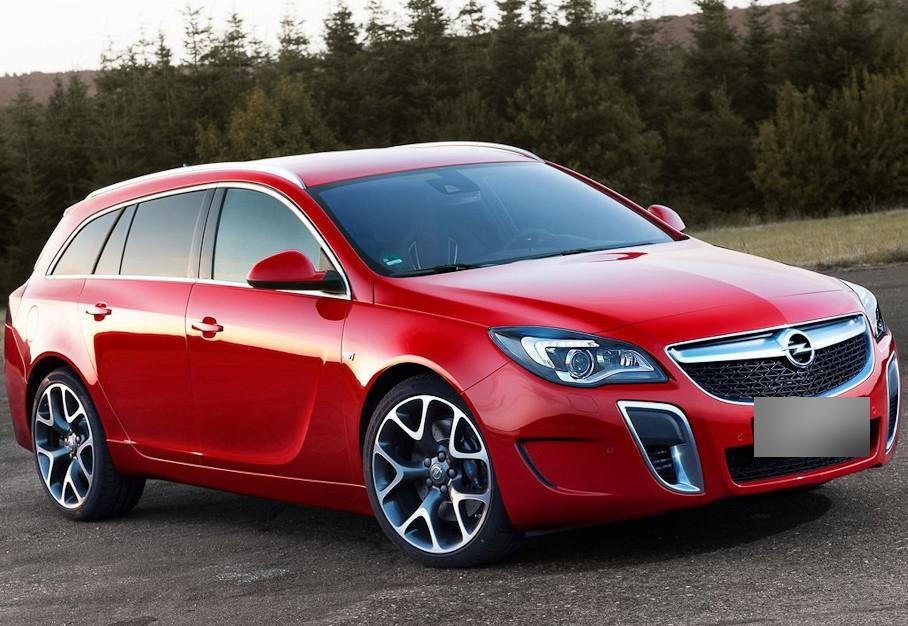Wagon: (4, 141, 902, 568)
